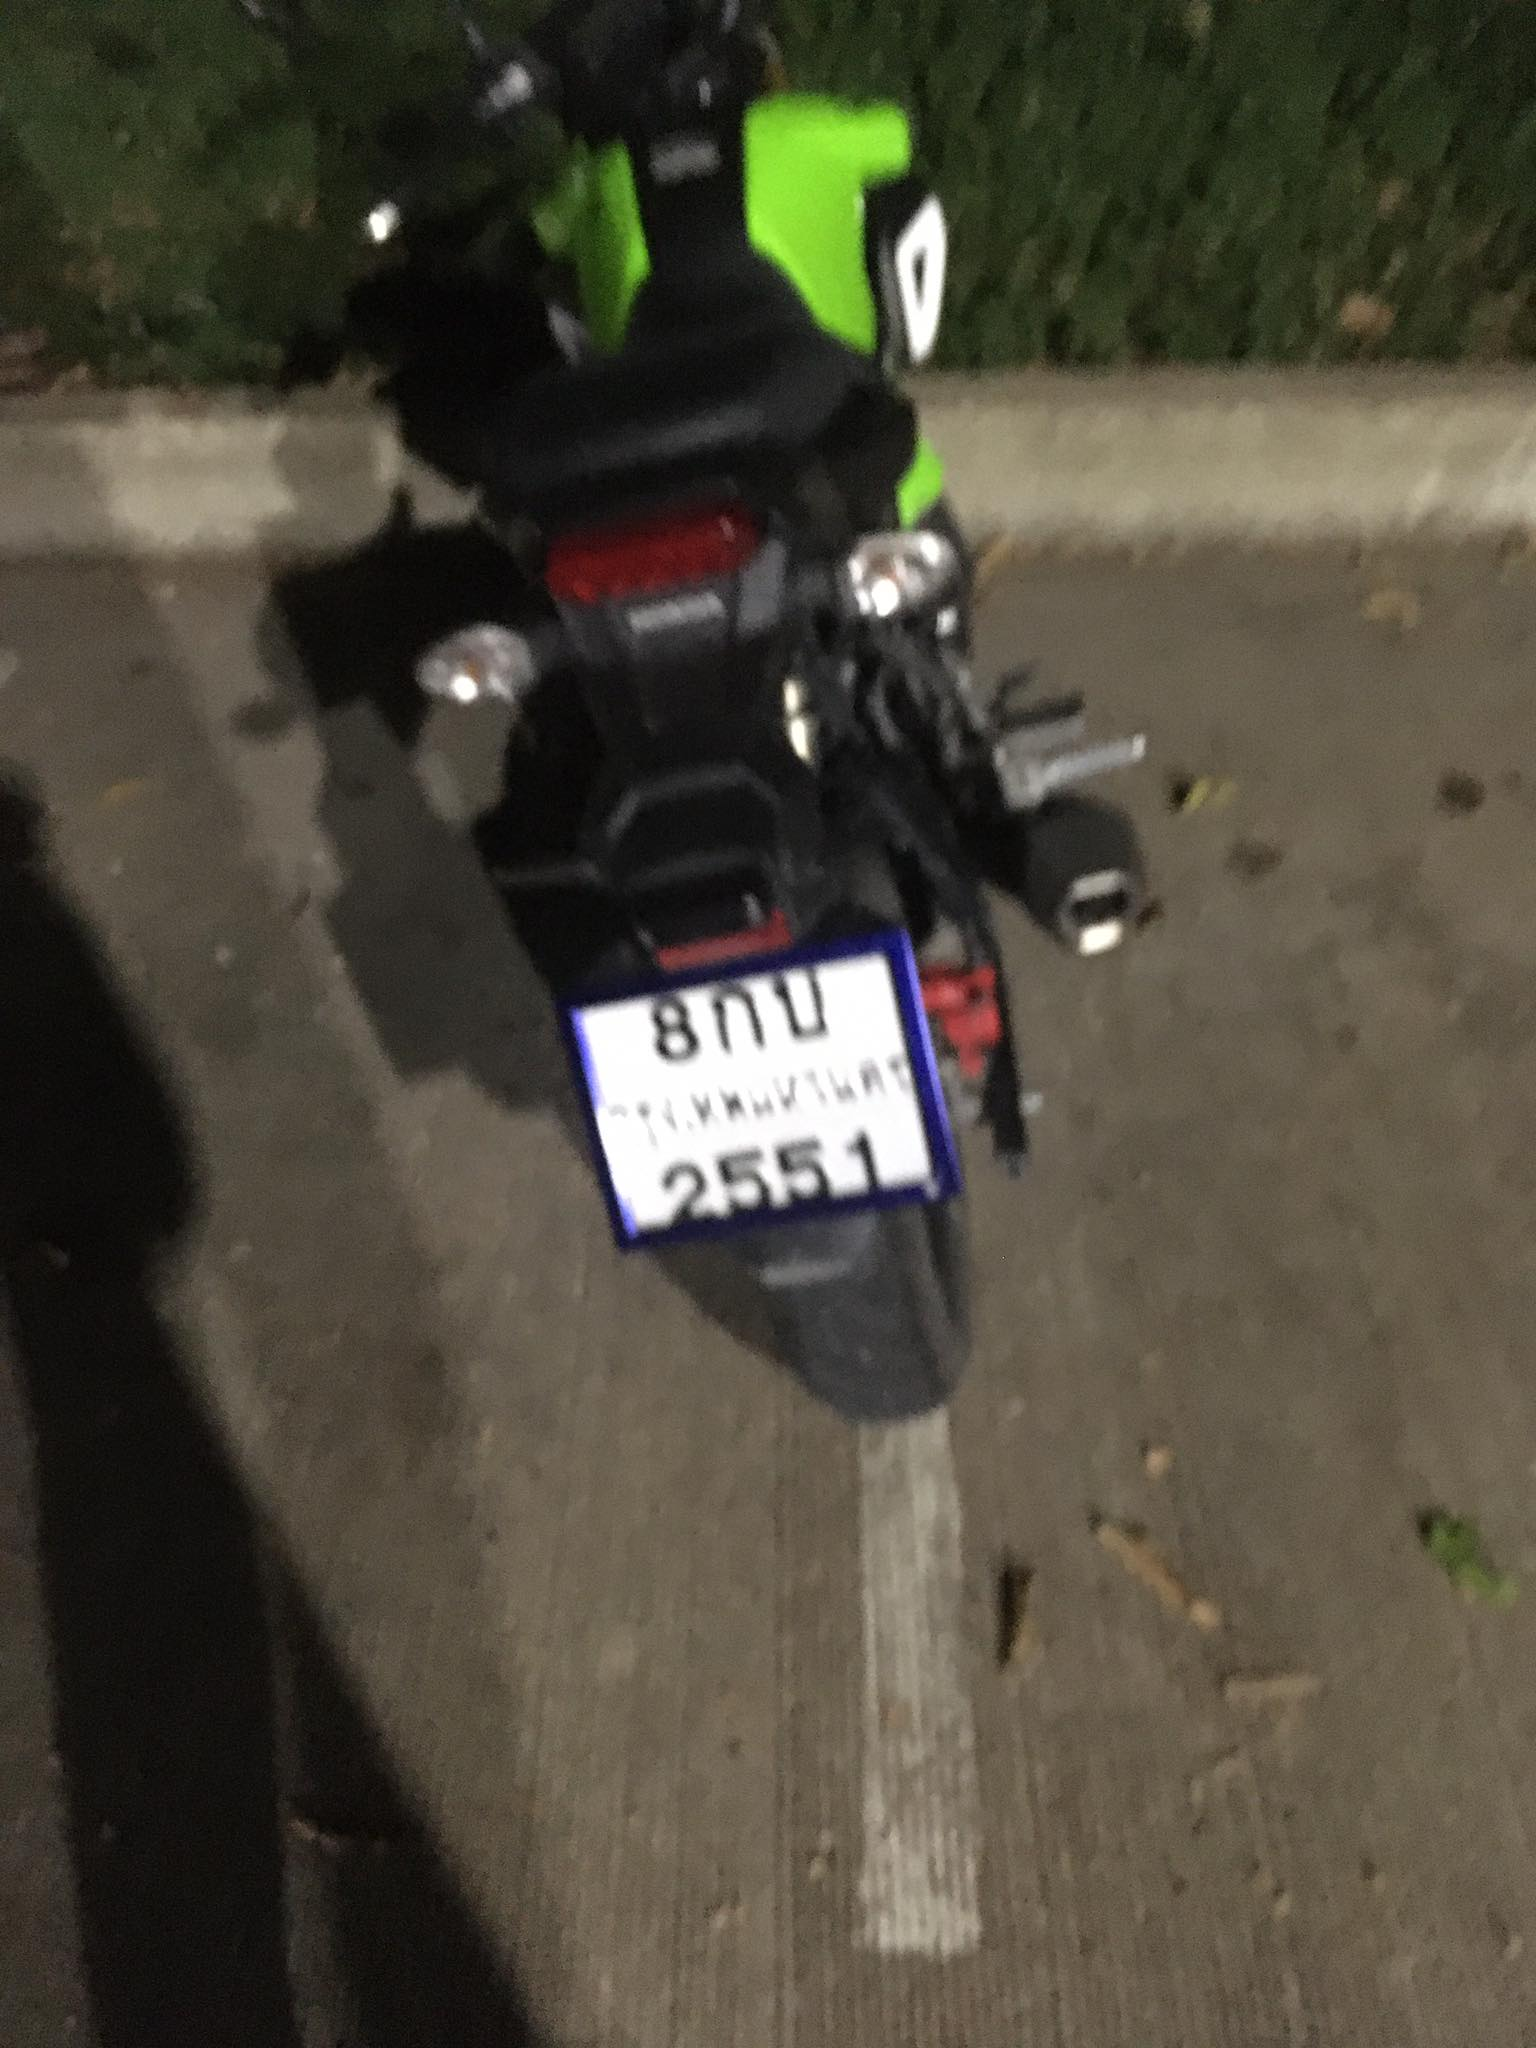line1: (644, 968, 837, 1064)
line2: (594, 1061, 921, 1145)
line3: (657, 1130, 891, 1238)
